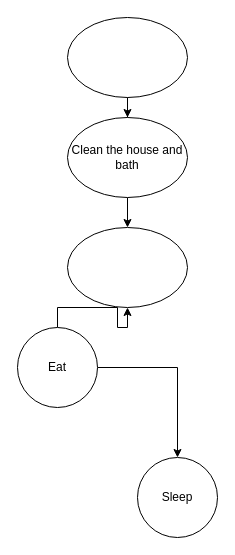
This 235x555 diagram has some shape labels left out. Each missing label, with the centre of its shape:
"Use my computer" goes at point 127,267.
"Wake up by 7:00am" goes at point 127,57.
